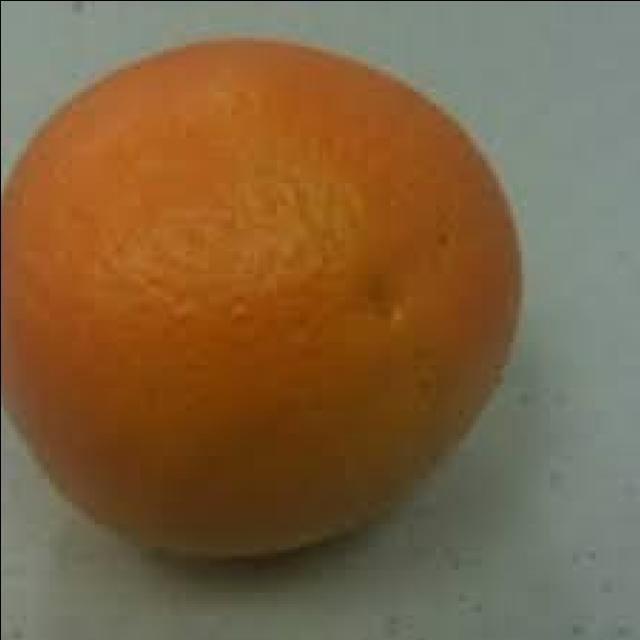orange: (0, 46, 516, 553)
